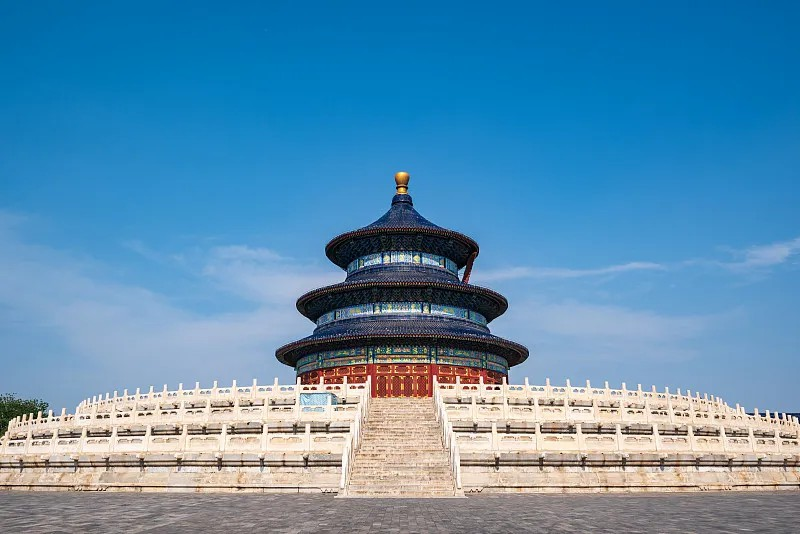Heaven: (275, 171, 529, 399)
